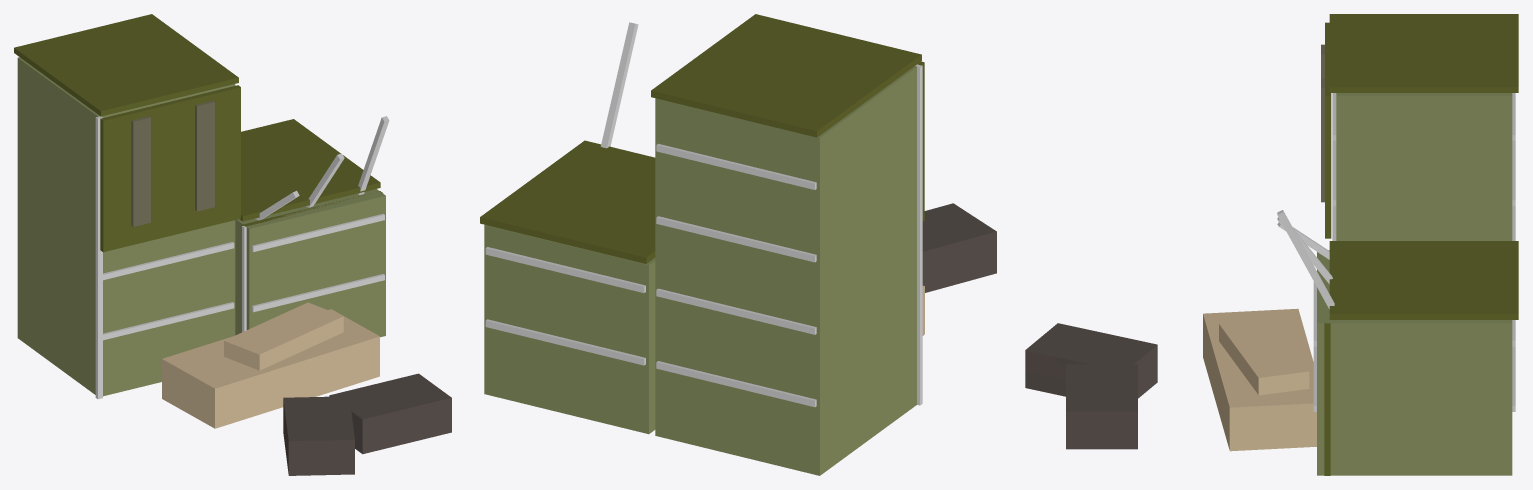
File: SM_HescoCorto2_v4_Red_e1_Danado_LOD0.fbx
3 views of the same model, side by side, from view 1: azimuth 30°, elevation 25°; view 2: azimuth 150°, elevation 25°; view 3: azimuth 270°, elevation 25° (orthographic). The views are drawn at different scales.
Parts seen in each view (by area): view 1: SM_hesco_piezas_v77_LOD0; view 2: SM_hesco_piezas_v77_LOD0; view 3: SM_hesco_piezas_v77_LOD0.
Boxes of the visible parts, x1,y1,x2,y2 form: SM_hesco_piezas_v77_LOD0: (14, 14, 451, 475); SM_hesco_piezas_v77_LOD0: (480, 14, 996, 475); SM_hesco_piezas_v77_LOD0: (1025, 14, 1518, 475).
Size of the model in its own units: 2.21 by 2.16 by 3.08.
